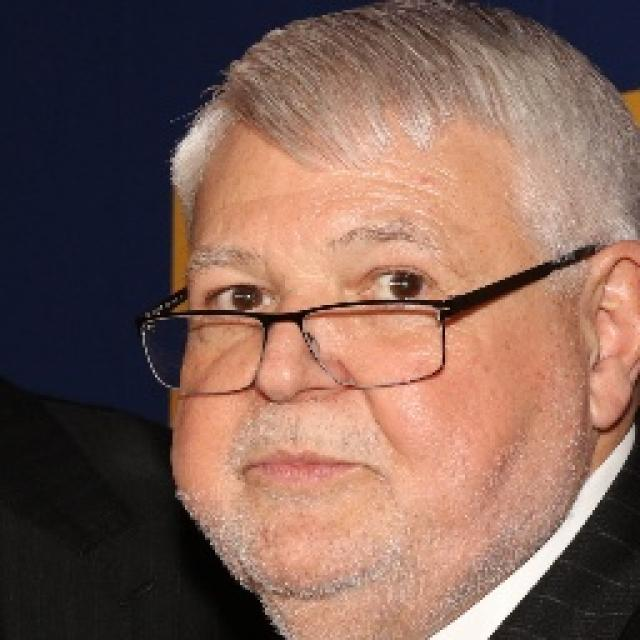earlobe: (582, 364, 624, 431)
eye: (348, 267, 437, 303), (201, 283, 275, 315)
nose: (249, 378, 343, 446)
wholeear: (578, 240, 640, 430)
